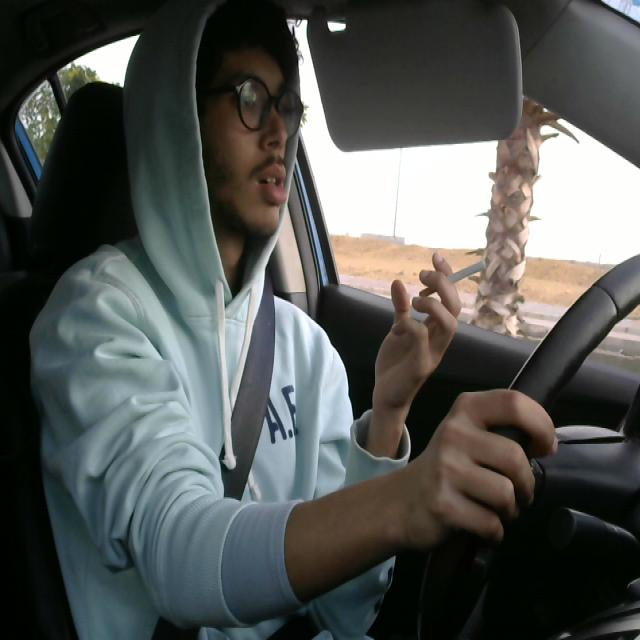smoking: (417, 252, 490, 315)
